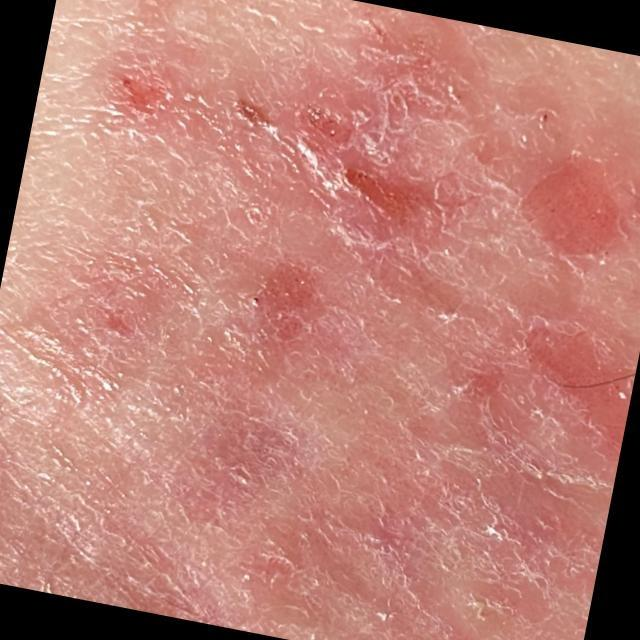Eczema: (67, 57, 615, 617)
